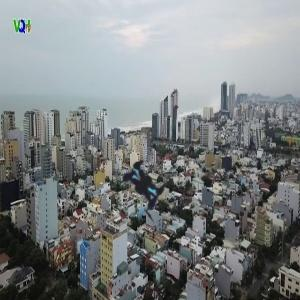drone: (83, 130, 201, 248)
